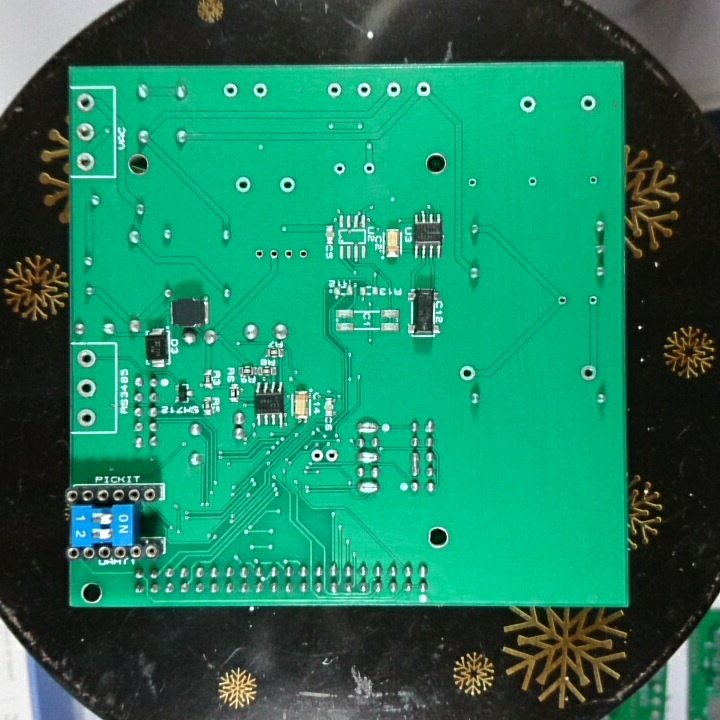F: (74, 149, 99, 174), (230, 173, 257, 196), (76, 375, 99, 401), (74, 91, 98, 115), (74, 347, 99, 370), (381, 77, 405, 100), (76, 406, 99, 429), (75, 120, 97, 144), (456, 363, 478, 385), (411, 79, 434, 100), (578, 361, 599, 383), (517, 93, 538, 115), (220, 80, 242, 101), (277, 175, 300, 195), (578, 92, 600, 112), (249, 81, 271, 100), (354, 80, 374, 100), (324, 80, 344, 99), (324, 445, 340, 467), (330, 160, 349, 178), (359, 159, 378, 177), (251, 245, 268, 263), (266, 245, 282, 263), (309, 446, 324, 465), (553, 292, 569, 309), (294, 245, 309, 263), (585, 292, 600, 309), (585, 172, 600, 189), (464, 175, 479, 190), (524, 173, 538, 189), (281, 246, 295, 262)
P: (354, 418, 385, 435), (354, 449, 384, 466), (354, 478, 382, 496), (407, 450, 423, 479)
